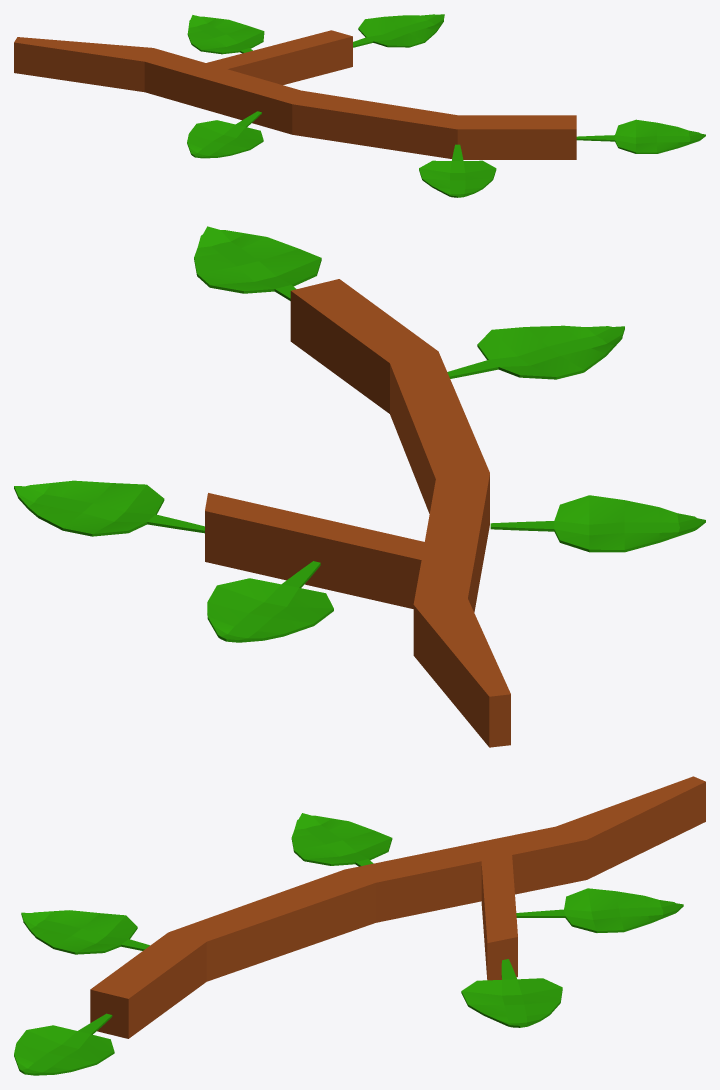
The model's file is StickwithLeaf.fbx.
3 renders of one model, top to bottom at view 1: azimuth 30°, elevation 25°; view 2: azimuth 150°, elevation 25°; view 3: azimuth 270°, elevation 25°, orthographic. The views are drawn at different scales.
Parts seen in each view (by area): view 1: Stick, Leaf__1_, Leaf__4_, Leaf, Leaf__3_, Leaf__2_; view 2: Stick, Leaf__3_, Leaf__4_, Leaf__2_, Leaf, Leaf__1_; view 3: Stick, Leaf__2_, Leaf__1_, Leaf, Leaf__3_, Leaf__4_.
Part boxes in pixels (x1,y1,x2,y2): Stick: [14, 30, 576, 159]; Leaf__1_: [576, 119, 705, 153]; Leaf__4_: [187, 111, 263, 158]; Leaf: [419, 144, 496, 197]; Leaf__3_: [353, 14, 444, 47]; Leaf__2_: [187, 15, 264, 54]; Stick: [205, 279, 510, 747]; Leaf__3_: [14, 480, 204, 536]; Leaf__4_: [490, 495, 705, 552]; Leaf__2_: [207, 561, 333, 642]; Leaf: [447, 325, 624, 379]; Leaf__1_: [194, 226, 321, 300]; Stick: [90, 776, 705, 1038]; Leaf__2_: [516, 888, 683, 932]; Leaf__1_: [14, 1013, 114, 1075]; Leaf: [21, 910, 149, 954]; Leaf__3_: [461, 959, 562, 1027]; Leaf__4_: [291, 813, 392, 866].
Size of the model in its own units: 150 by 10 by 156.
